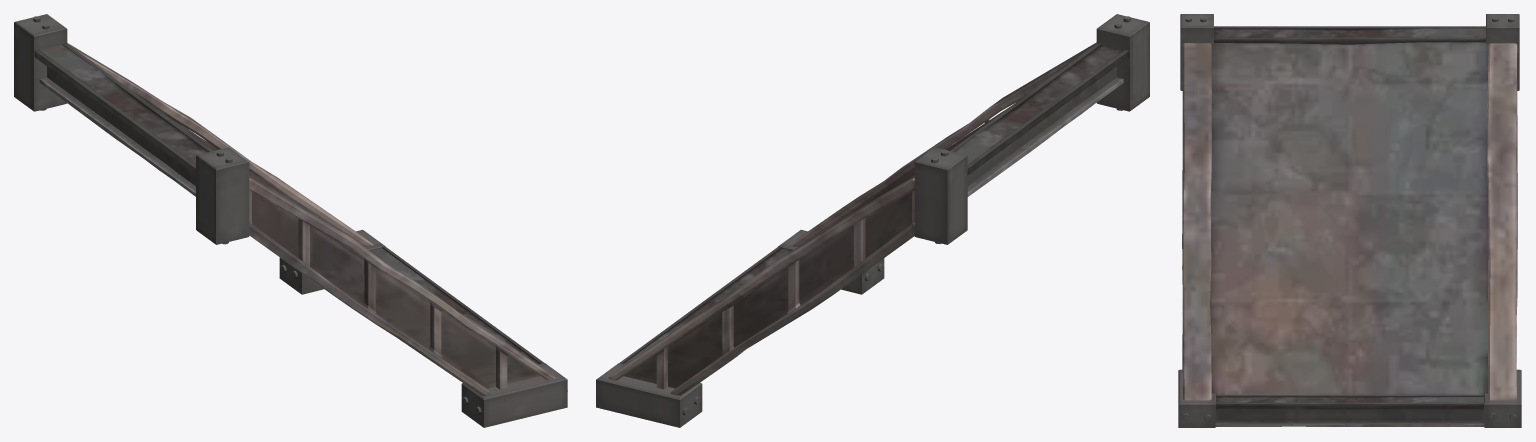
File: SM_RoofB_Iron_ed810b.glb
3 views of the same model, side by side, from view 1: azimuth 30°, elevation 25°; view 2: azimuth 150°, elevation 25°; view 3: azimuth 270°, elevation 25° (orthographic). The views are drawn at different scales.
Bounding box in the file's own units: 4.08 × 3.6 × 4.09.
Materials: 1 (1 with a texture image).
